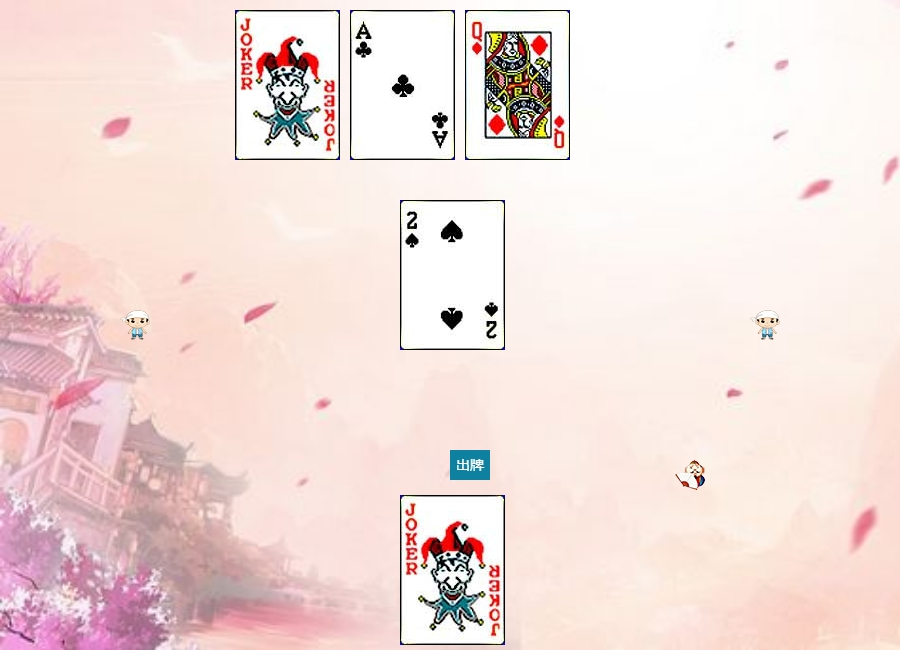12~1: (465, 10, 570, 160)
14~2: (350, 10, 455, 160)
15~4: (400, 200, 505, 350)
18~4: (235, 10, 340, 160), (400, 495, 505, 645)
